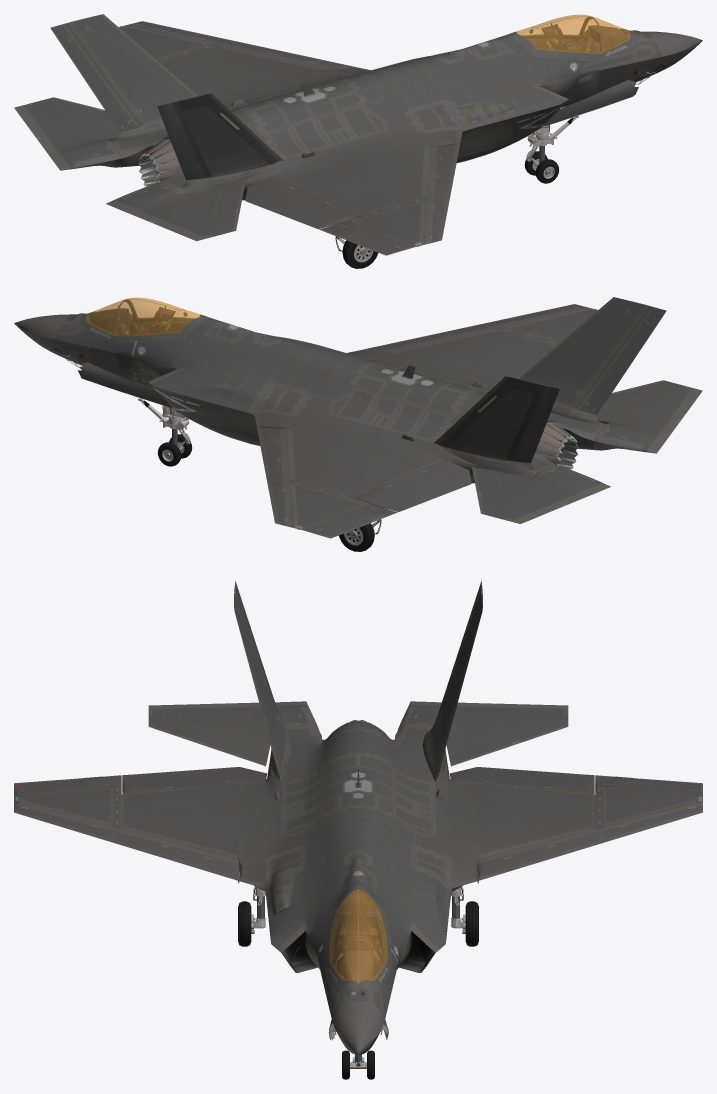
3 views of the same model, one above another, from view 1: azimuth 30°, elevation 25°; view 2: azimuth 150°, elevation 25°; view 3: azimuth 270°, elevation 25° (orthographic). The views are drawn at different scales.
Visible parts, largest first — view 1: F-35-airframe_0, F-35-landingOn_6, F-35-canopy_1, F-35-cockpit_2; view 2: F-35-airframe_0, F-35-landingOn_6, F-35-canopy_1, F-35-cockpit_2; view 3: F-35-airframe_0, F-35-canopy_1, F-35-cockpit_2, F-35-landingOn_6.
Part boxes in pixels (<box>): F-35-airframe_0: <box>14,14,702,255</box>; F-35-landingOn_6: <box>335,79,638,268</box>; F-35-canopy_1: <box>515,14,630,53</box>; F-35-cockpit_2: <box>515,16,630,53</box>; F-35-airframe_0: <box>14,297,702,538</box>; F-35-landingOn_6: <box>78,362,381,551</box>; F-35-canopy_1: <box>86,297,201,336</box>; F-35-cockpit_2: <box>86,299,201,336</box>; F-35-airframe_0: <box>14,581,702,1055</box>; F-35-canopy_1: <box>329,889,387,983</box>; F-35-cockpit_2: <box>329,889,387,983</box>; F-35-landingOn_6: <box>238,871,478,1079</box>.
Bounding box in the file's own units: 157 × 53.2 × 132.
4 materials, 1 textured.
